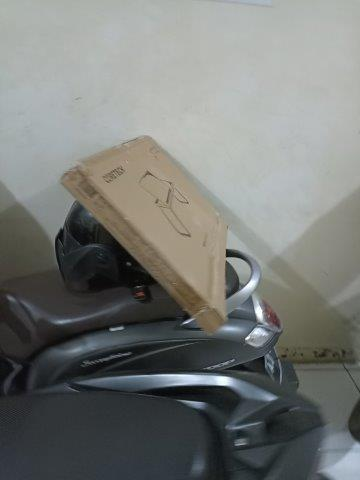kardus: (58, 136, 226, 329)
